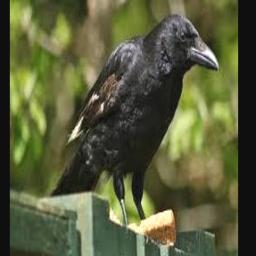Crow: (47, 13, 219, 231)
